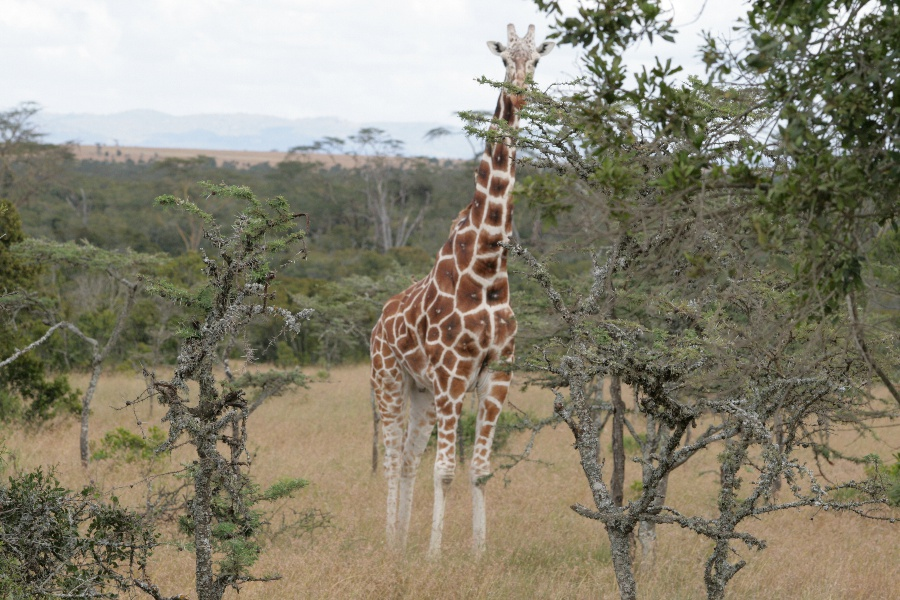giraffe: (356, 15, 564, 570)
